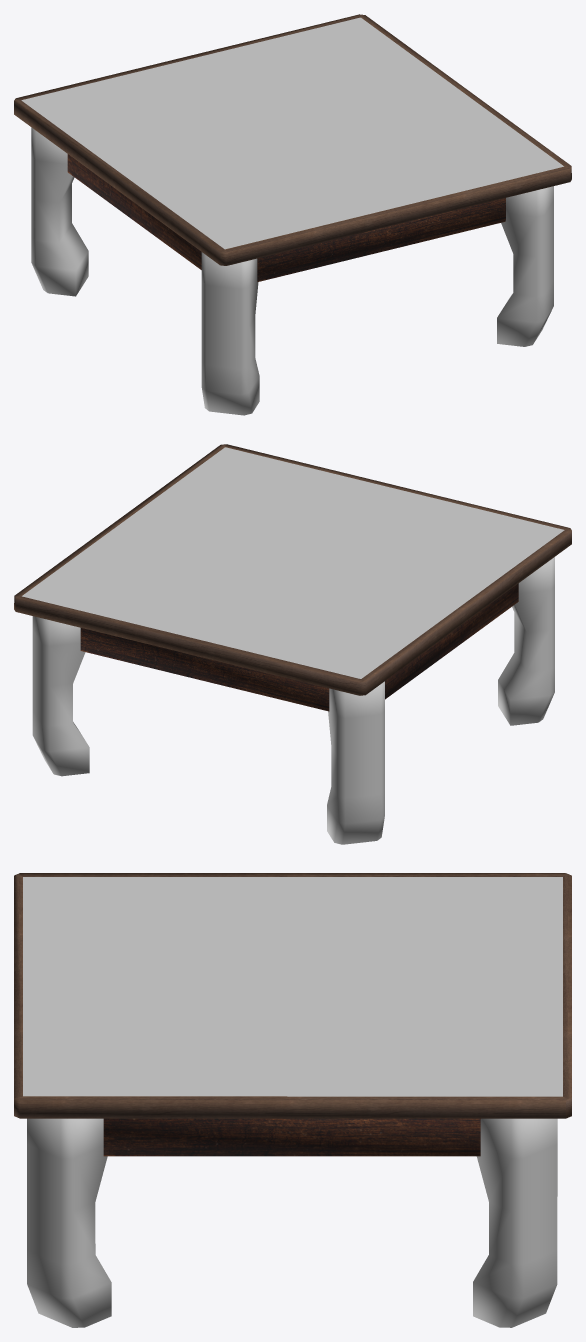
The model's file is jov_table02a.fbx.
3 renders of one model, top to bottom at view 1: azimuth 30°, elevation 25°; view 2: azimuth 150°, elevation 25°; view 3: azimuth 270°, elevation 25°, orthographic. The views are drawn at different scales.
Parts seen in each view (by area): view 1: jov_table02a; view 2: jov_table02a; view 3: jov_table02a.
Boxes of the visible parts, box(x1,y1,x2,y2) form: jov_table02a: box(14, 14, 571, 415); jov_table02a: box(14, 444, 571, 844); jov_table02a: box(14, 873, 571, 1327).
Bounding box in the file's own units: 82.74 × 39.66 × 85.79.
